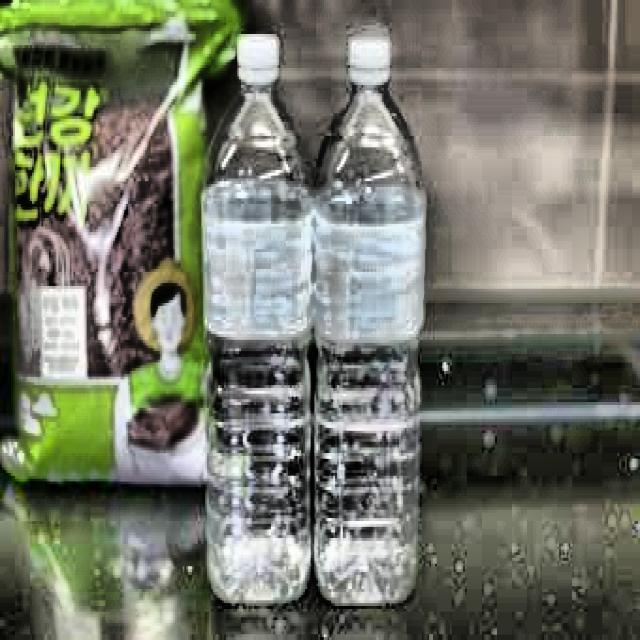Bottles: (200, 7, 314, 606)
